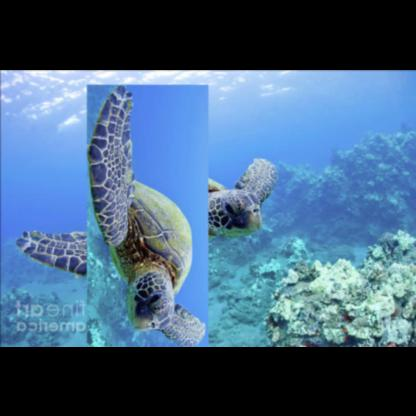turtle: (49, 119, 242, 312)
